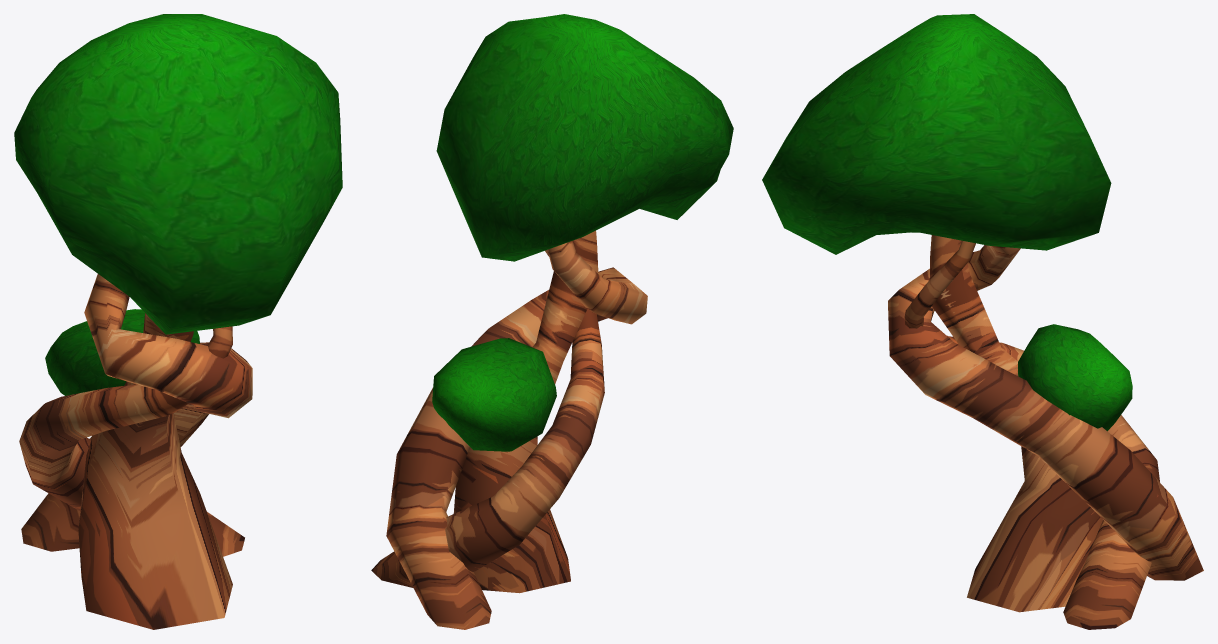
File: tree 5.fbx
3 renders of one model, left to right at view 1: azimuth 30°, elevation 25°; view 2: azimuth 150°, elevation 25°; view 3: azimuth 270°, elevation 25°, orthographic. The views are drawn at different scales.
Parts seen in each view (by area): view 1: tree_5; view 2: tree_5; view 3: tree_5.
Boxes of the visible parts, x1,y1,x2,y2 form: tree_5: (14, 14, 342, 629); tree_5: (371, 14, 733, 629); tree_5: (762, 14, 1203, 629).
Size of the model in its own units: 57.4 by 113 by 83.73.
